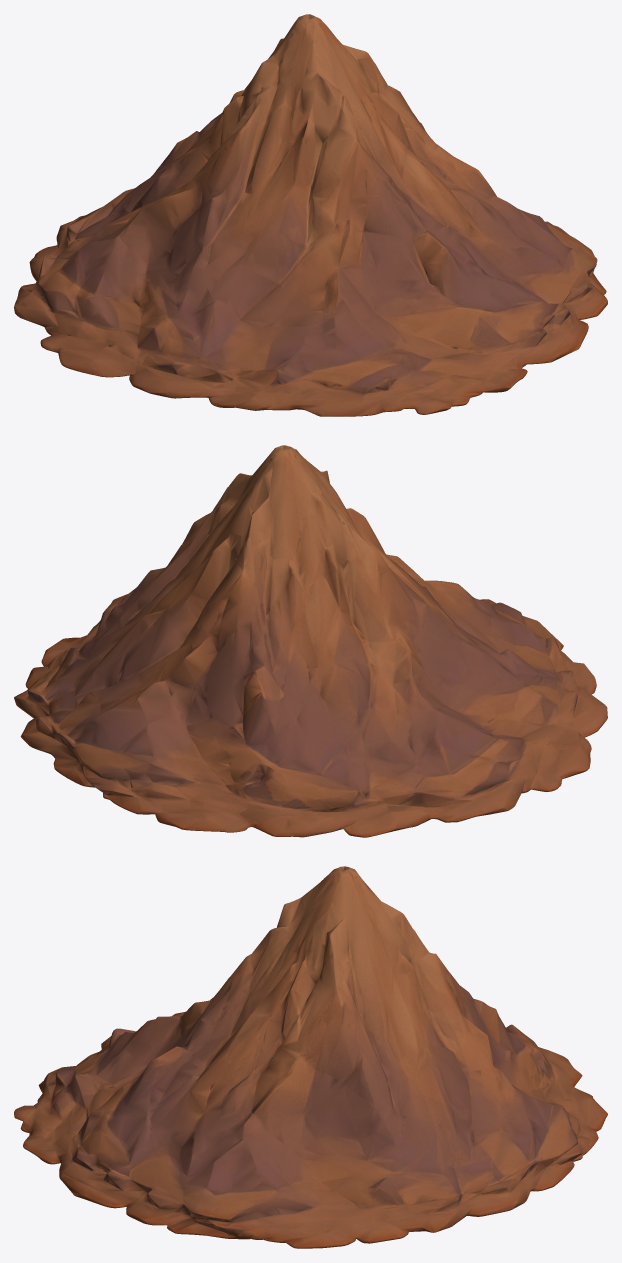
The model's file is montana_2.glb.
The picture shows the model from 3 angles, top to bottom: view 1: azimuth 30°, elevation 25°; view 2: azimuth 150°, elevation 25°; view 3: azimuth 270°, elevation 25°; orthographic projection. The views are drawn at different scales.
Parts seen in each view (by area): view 1: montana_2; view 2: montana_2; view 3: montana_2.
Part boxes in pixels (x1,y1,x2,y2): montana_2: (14,14,607,416); montana_2: (14,445,607,837); montana_2: (14,866,607,1248).
Size of what is drawn, in the model's own units: 120 by 60.01 by 121.
1 material, 1 textured.
